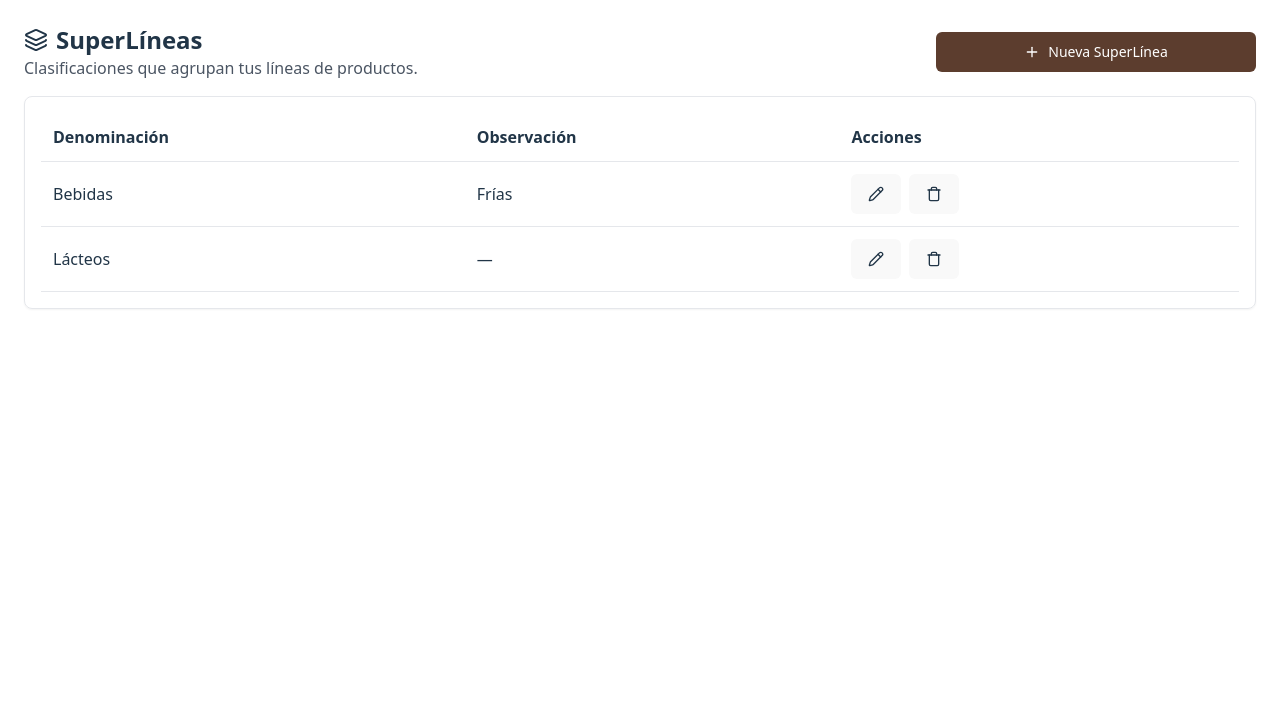
Test: ConsultarSuperlinea › edición › abre el formulario con los datos de la fila
Step 1. Click the button named "Editar Bebidas" → (876, 194), box x1=852 y1=174 x2=902 y2=214
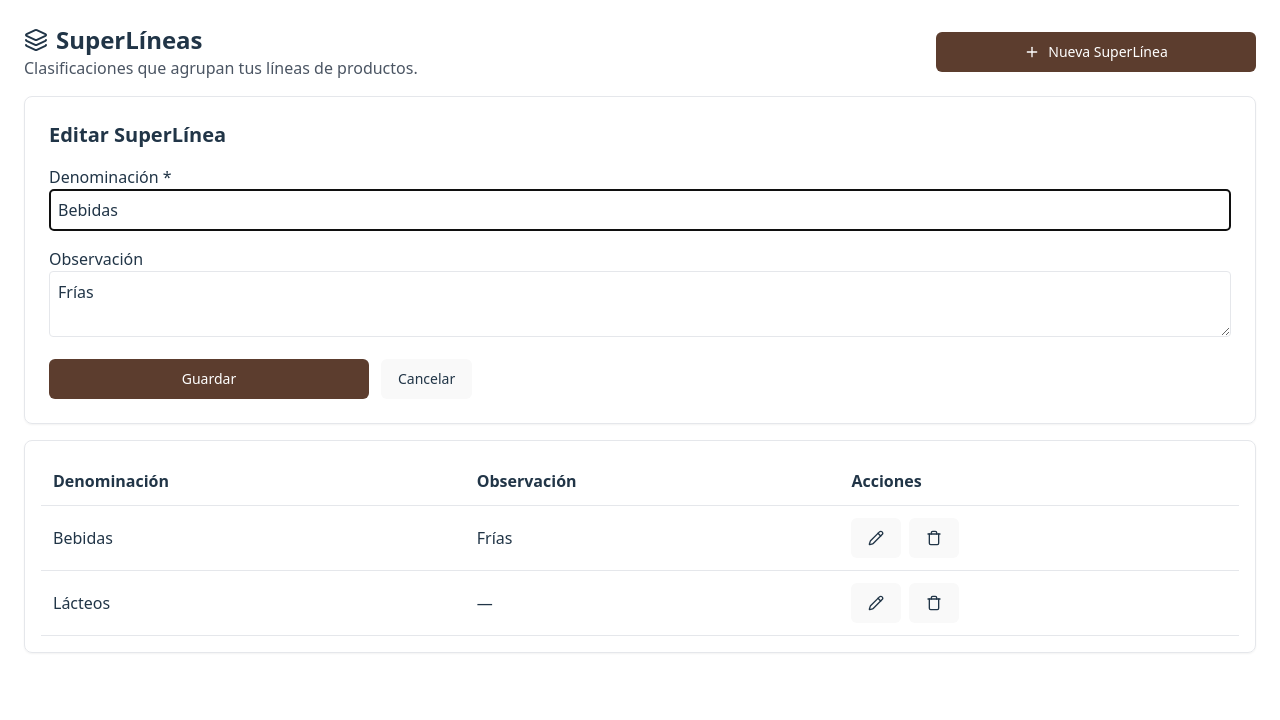
expect the heading "Editar SuperLínea" is shown: met, box x1=49 y1=121 x2=226 y2=148
expect the field labelled "Denominación *" holds "Bebidas": met, box x1=49 y1=189 x2=1231 y2=231
expect the text box labelled "Observación" holds "Frías": met, box x1=49 y1=271 x2=1231 y2=337
